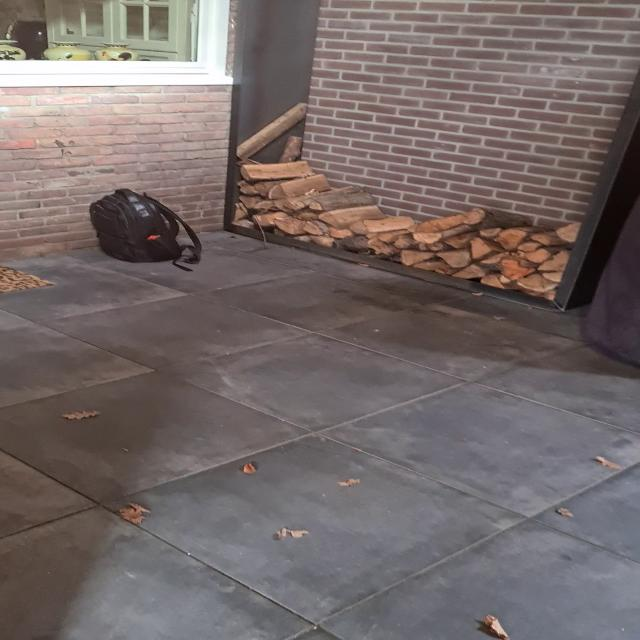backpack: (85, 187, 202, 266)
